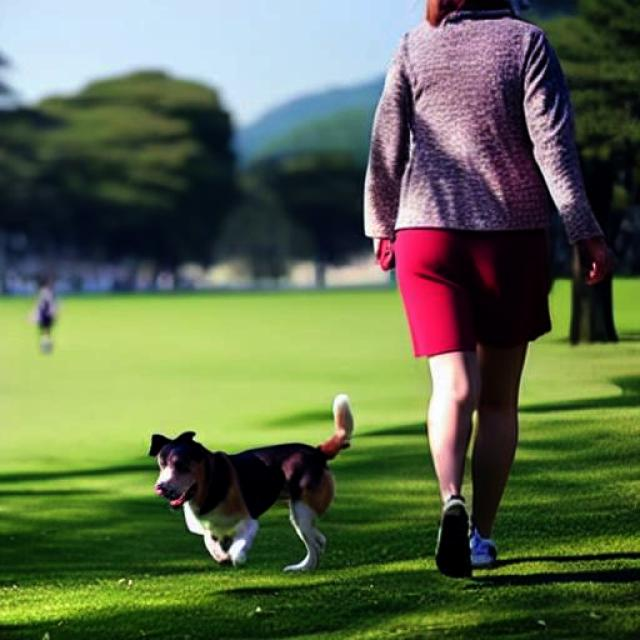Unleashed_Dog: (149, 220, 539, 572)
